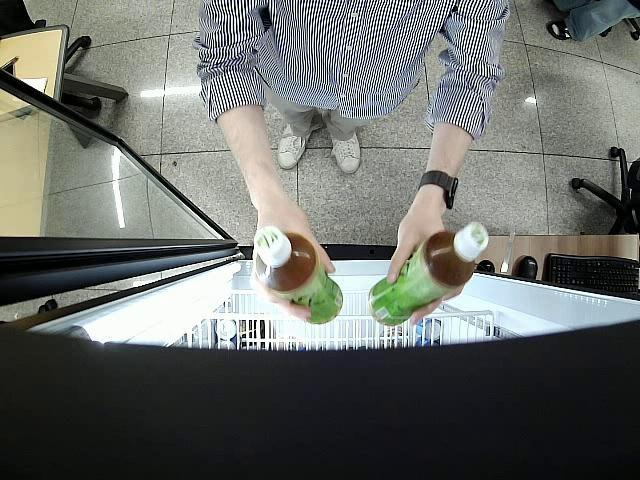19_17cha: (368, 222, 489, 326), (251, 225, 343, 324)
